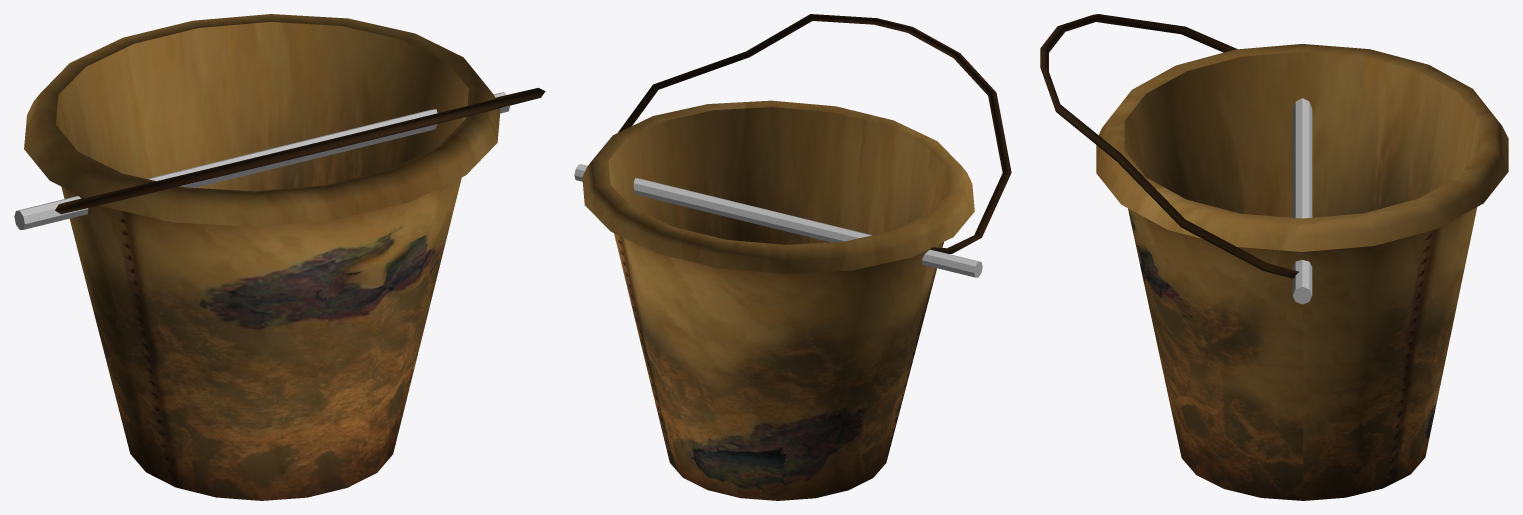
Rendered from other_bucket01.dae.
3 views of the same model, side by side, from view 1: azimuth 30°, elevation 25°; view 2: azimuth 150°, elevation 25°; view 3: azimuth 270°, elevation 25° (orthographic). The views are drawn at different scales.
Visible parts, largest first — view 1: bucket, handle, _joint_hinge_handle_bucket_170_50_nocollide_joint1; view 2: bucket, _joint_hinge_handle_bucket_170_50_nocollide_joint1, handle; view 3: bucket, handle, _joint_hinge_handle_bucket_170_50_nocollide_joint1.
Boxes of the visible parts, left/top/right/bottom form: bucket: left=24, top=14, right=500, bottom=500; handle: left=55, top=88, right=545, bottom=214; _joint_hinge_handle_bucket_170_50_nocollide_joint1: left=14, top=92, right=509, bottom=229; bucket: left=582, top=100, right=974, bottom=500; _joint_hinge_handle_bucket_170_50_nocollide_joint1: left=574, top=164, right=982, bottom=277; handle: left=618, top=14, right=1011, bottom=253; bucket: left=1096, top=44, right=1508, bottom=500; handle: left=1040, top=14, right=1298, bottom=278; _joint_hinge_handle_bucket_170_50_nocollide_joint1: left=1292, top=98, right=1312, bottom=304.
Size of what is drawn, in the model's own units: 0.5339 by 0.4452 by 0.4809.
